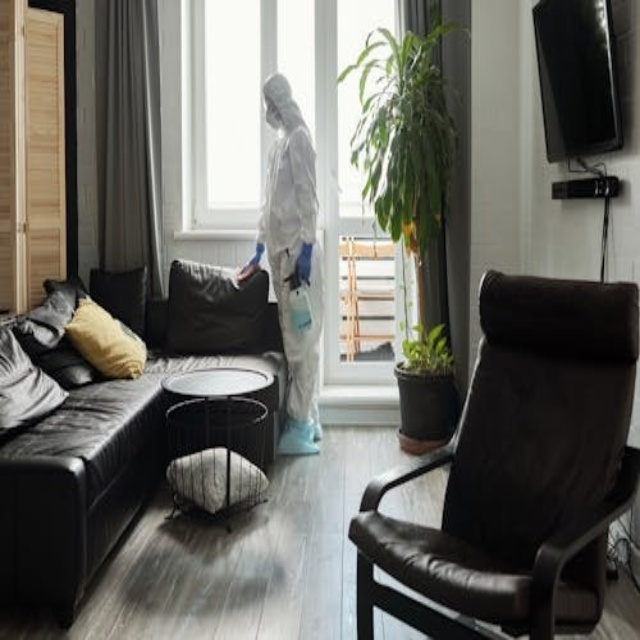Guantes: (239, 243, 265, 278), (296, 241, 313, 285)
Mascara: (266, 107, 283, 131)
